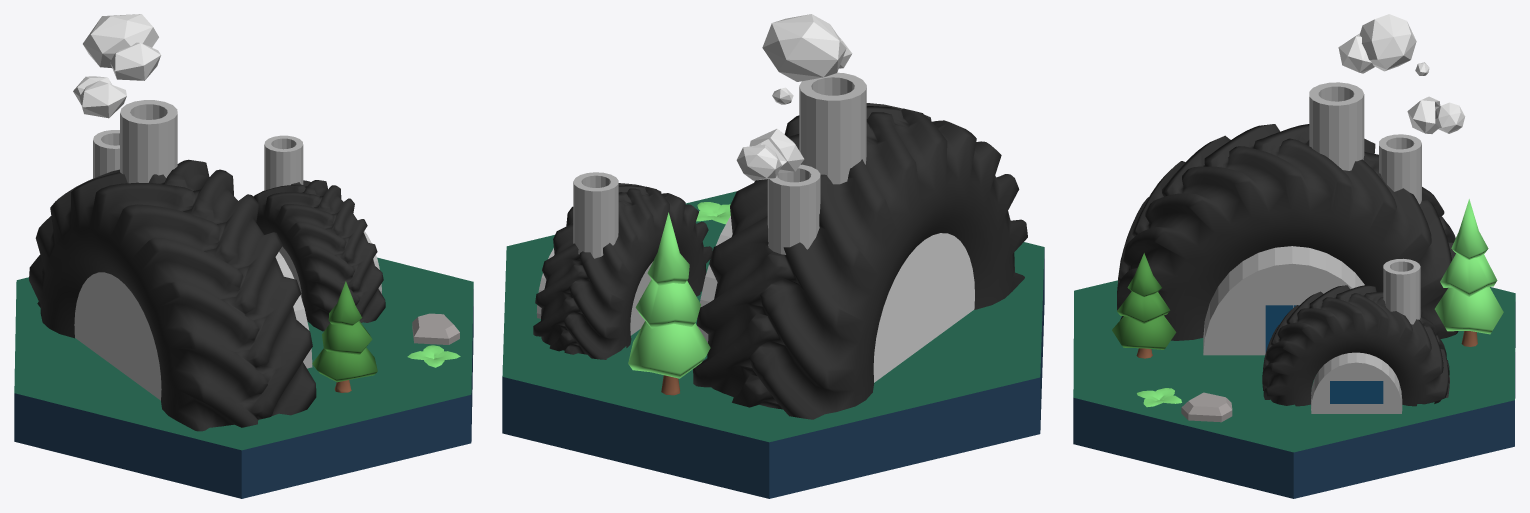
File: Macro - transportation factory lv2.fbx
The picture shows the model from 3 angles, left to right: view 1: azimuth 30°, elevation 25°; view 2: azimuth 150°, elevation 25°; view 3: azimuth 270°, elevation 25°; orthographic projection. The views are drawn at different scales.
Parts seen in each view (by area): view 1: Cylinder.154, Cylinder.017, Cylinder.013, Cylinder.001, Cylinder.002, Cloud_1.002, Tree_Spruce_tiny_01.007, Cylinder.008, Cloud_1.003, Rock Type4 04 mesh.002, Cylinder.010, Cylinder.012 (+1 smaller); view 2: Cylinder.154, Cylinder.017, Cylinder.013, Cylinder.001, Tree_Spruce_tiny_01.005, Cylinder.002, Cloud_1.002, Cylinder.010, Cylinder.008, Cloud_1.003, Cylinder.012, Plane.005; view 3: Cylinder.154, Cylinder.017, Cylinder.013, Cylinder.012, Tree_Spruce_tiny_01.005, Cylinder.002, Tree_Spruce_tiny_01.007, Cylinder.005, Cloud_1.002, Cylinder.010, Cylinder.008, Cloud_1.003 (+4 smaller).
Boxes of the visible parts, x1,y1,x2,y2 form: Cylinder.154: [14, 257, 473, 498]; Cylinder.017: [29, 159, 316, 431]; Cylinder.013: [253, 180, 385, 331]; Cylinder.001: [74, 272, 161, 400]; Cylinder.002: [120, 100, 177, 183]; Cloud_1.002: [83, 14, 160, 80]; Tree_Spruce_tiny_01.007: [312, 281, 377, 392]; Cylinder.008: [264, 135, 303, 190]; Cloud_1.003: [73, 76, 126, 118]; Rock Type4 04 mesh.002: [412, 313, 459, 344]; Cylinder.010: [93, 130, 119, 178]; Cylinder.012: [275, 252, 312, 368]; Cylinder.154: [502, 191, 1044, 498]; Cylinder.017: [693, 103, 1027, 419]; Cylinder.013: [533, 183, 712, 359]; Cylinder.001: [873, 233, 974, 382]; Tree_Spruce_tiny_01.005: [628, 212, 710, 395]; Cylinder.002: [799, 72, 866, 184]; Cloud_1.002: [762, 14, 852, 81]; Cylinder.010: [767, 164, 820, 254]; Cylinder.008: [573, 172, 618, 258]; Cloud_1.003: [736, 128, 804, 180]; Cylinder.012: [697, 216, 732, 342]; Plane.005: [696, 202, 730, 224]; Cylinder.154: [1073, 280, 1515, 498]; Cylinder.017: [1117, 124, 1458, 340]; Cylinder.013: [1262, 285, 1449, 406]; Cylinder.012: [1203, 246, 1364, 355]; Tree_Spruce_tiny_01.005: [1434, 199, 1503, 346]; Cylinder.002: [1309, 82, 1364, 170]; Tree_Spruce_tiny_01.007: [1112, 253, 1176, 358]; Cylinder.005: [1311, 352, 1402, 413]; Cloud_1.002: [1338, 14, 1416, 73]; Cylinder.010: [1379, 134, 1421, 204]; Cylinder.008: [1383, 258, 1420, 324]; Cloud_1.003: [1407, 96, 1465, 133].
Size of the model in its own units: 197 by 166 by 172.
